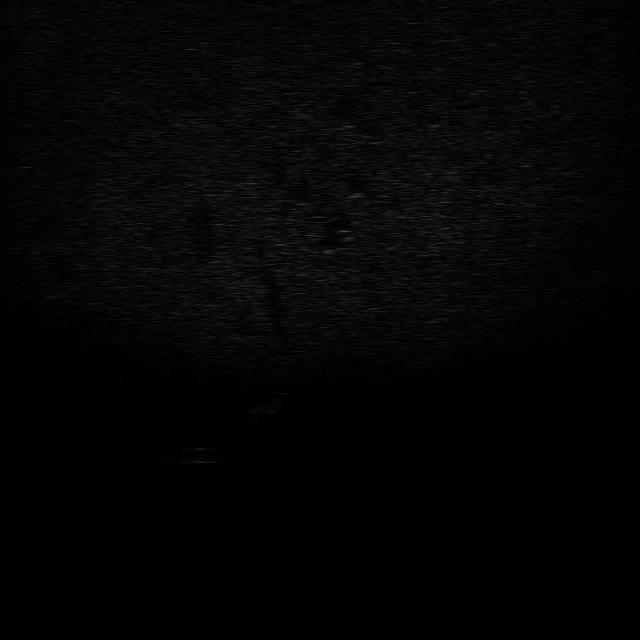ball: (180, 442, 220, 467)
human body: (244, 386, 288, 435)
